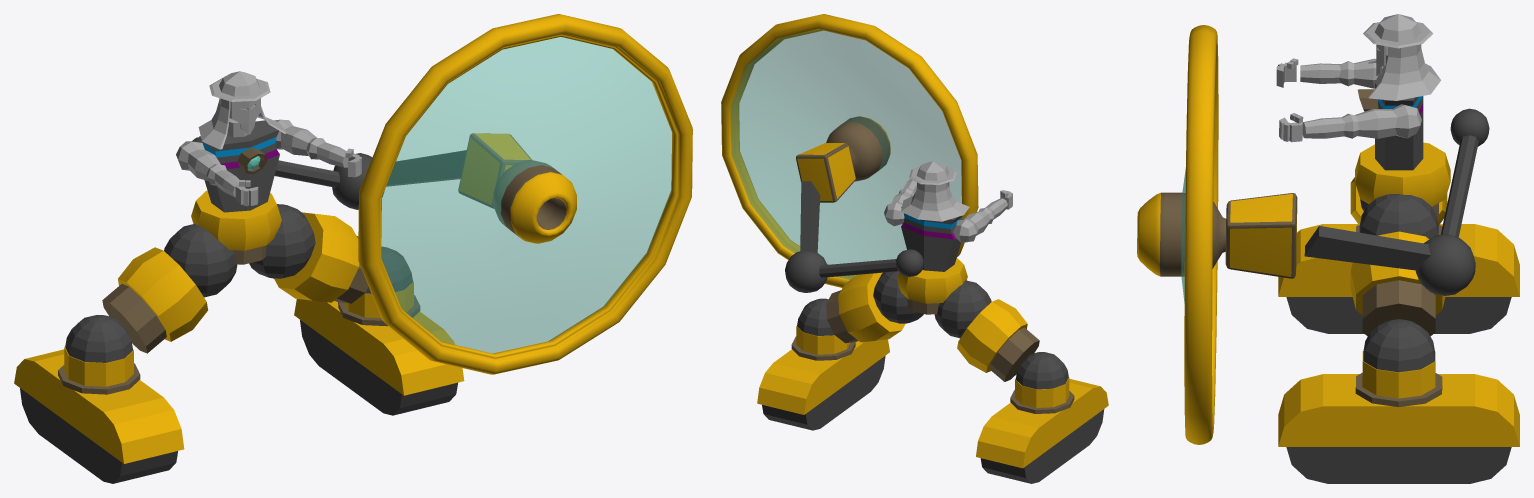
Rendered from shield knight combo.fbx.
3 renders of one model, left to right at view 1: azimuth 30°, elevation 25°; view 2: azimuth 150°, elevation 25°; view 3: azimuth 270°, elevation 25°, orthographic. The views are drawn at different scales.
Parts seen in each view (by area): view 1: SK_polySurface99, SK_polySurface84, SK_polySurface71, SK_polySurface98, SK_torso2, SK_robo_knight_head_1, SK_shoulder_R, SK_shoulder_L, SK_elbow_L; view 2: SK_polySurface99, SK_polySurface84, SK_polySurface71, SK_robo_knight_head_1, SK_torso2, SK_polySurface98, SK_shoulder_R, SK_shoulder_L; view 3: SK_polySurface71, SK_polySurface99, SK_polySurface84, SK_robo_knight_head_1, SK_polySurface98, SK_torso2, SK_shoulder_L, SK_elbow_L, SK_elbow_R, SK_shoulder_R, SK_hand_L, SK_hand_R.
Part boxes in pixels (x1,y1,x2,y2): SK_polySurface99: (192, 14, 692, 374); SK_polySurface84: (14, 223, 237, 483); SK_polySurface71: (249, 204, 464, 415); SK_polySurface98: (191, 190, 281, 264); SK_torso2: (199, 120, 279, 212); SK_robo_knight_head_1: (198, 71, 286, 149); SK_shoulder_R: (176, 141, 220, 180); SK_shoulder_L: (274, 119, 316, 155); SK_elbow_L: (306, 138, 348, 167); SK_polySurface99: (721, 14, 978, 292); SK_polySurface84: (934, 280, 1108, 483); SK_polySurface71: (757, 271, 923, 430); SK_robo_knight_head_1: (901, 161, 969, 221); SK_torso2: (901, 206, 961, 271); SK_polySurface98: (897, 258, 967, 314); SK_shoulder_R: (953, 211, 990, 242); SK_shoulder_L: (884, 191, 911, 226); SK_polySurface71: (1278, 194, 1519, 483); SK_polySurface99: (1137, 25, 1489, 444); SK_polySurface84: (1278, 177, 1519, 333); SK_robo_knight_head_1: (1363, 14, 1440, 100); SK_polySurface98: (1355, 142, 1450, 217); SK_torso2: (1375, 64, 1423, 170); SK_shoulder_L: (1354, 104, 1421, 138); SK_elbow_L: (1302, 113, 1358, 138); SK_elbow_R: (1300, 61, 1354, 86); SK_shoulder_R: (1354, 58, 1383, 88); SK_hand_L: (1279, 113, 1303, 142); SK_hand_R: (1276, 58, 1298, 87).
Bounding box in the file's own units: 5290 × 3885 × 2977.
